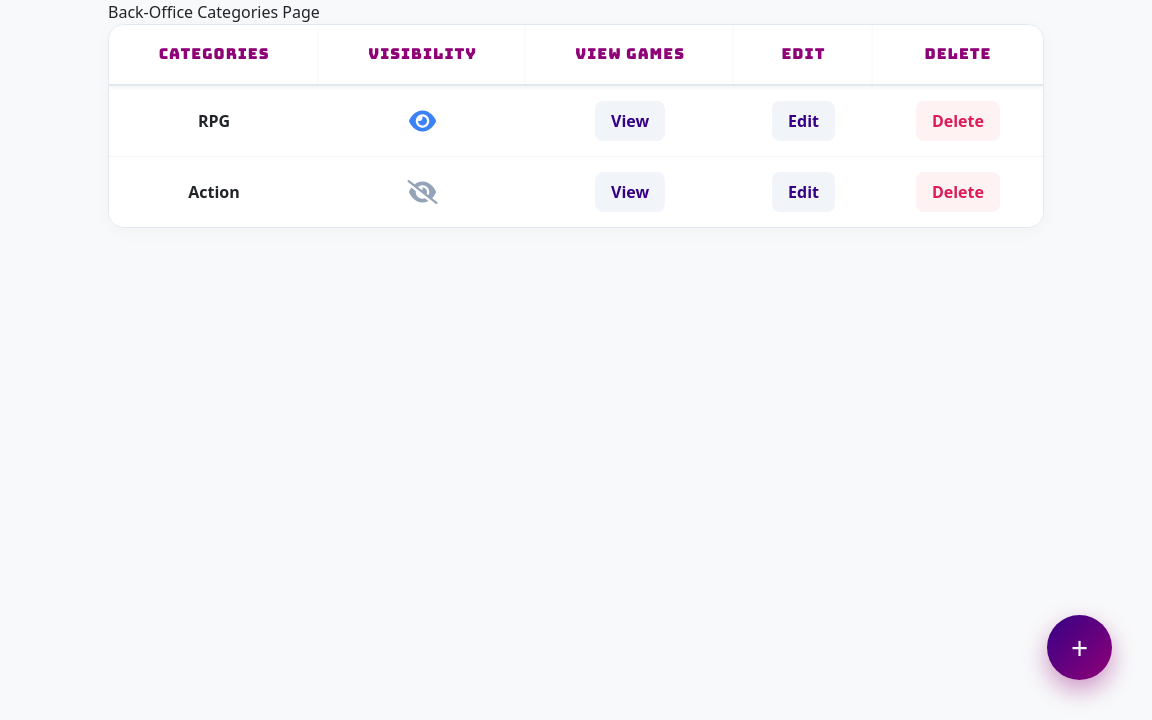
Test case: AdminCategories › adds a category through the modal and reloads
Click the button named "Add category" at (1080,648), box [1047, 615, 1112, 680]
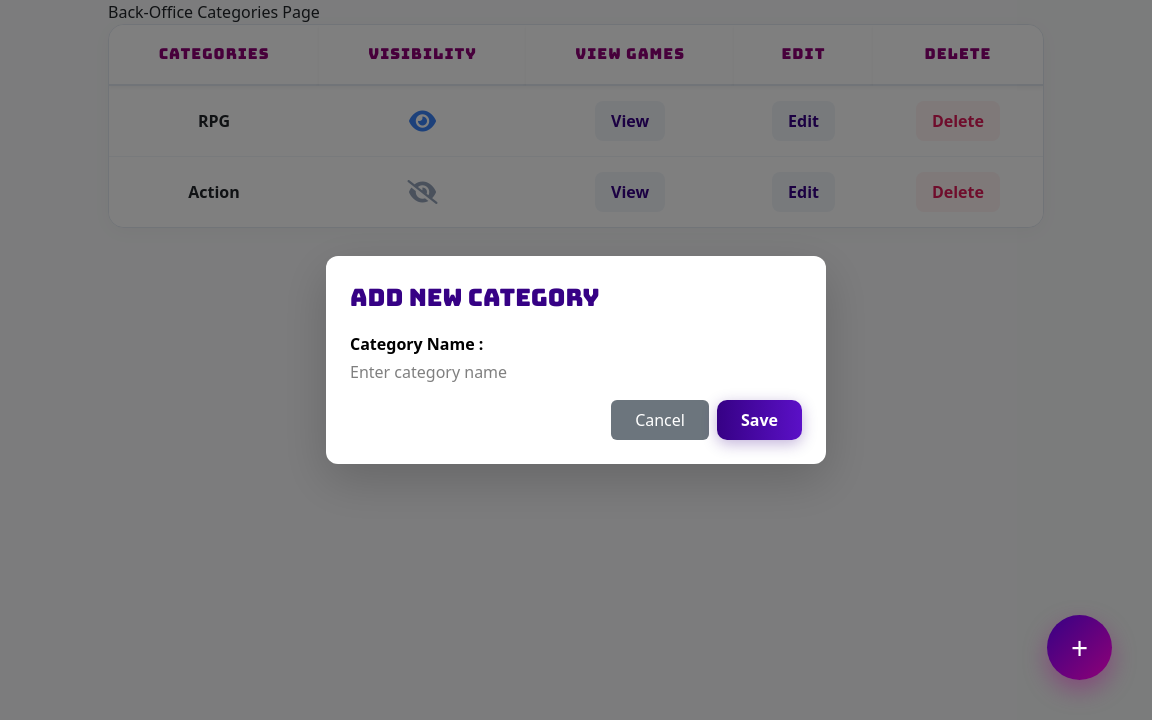
Result: the dialog shows "Add New Category" at [350, 282, 600, 313]
Type "Indie" into the field with id "cat-name" at (466,372), box [350, 360, 581, 384]
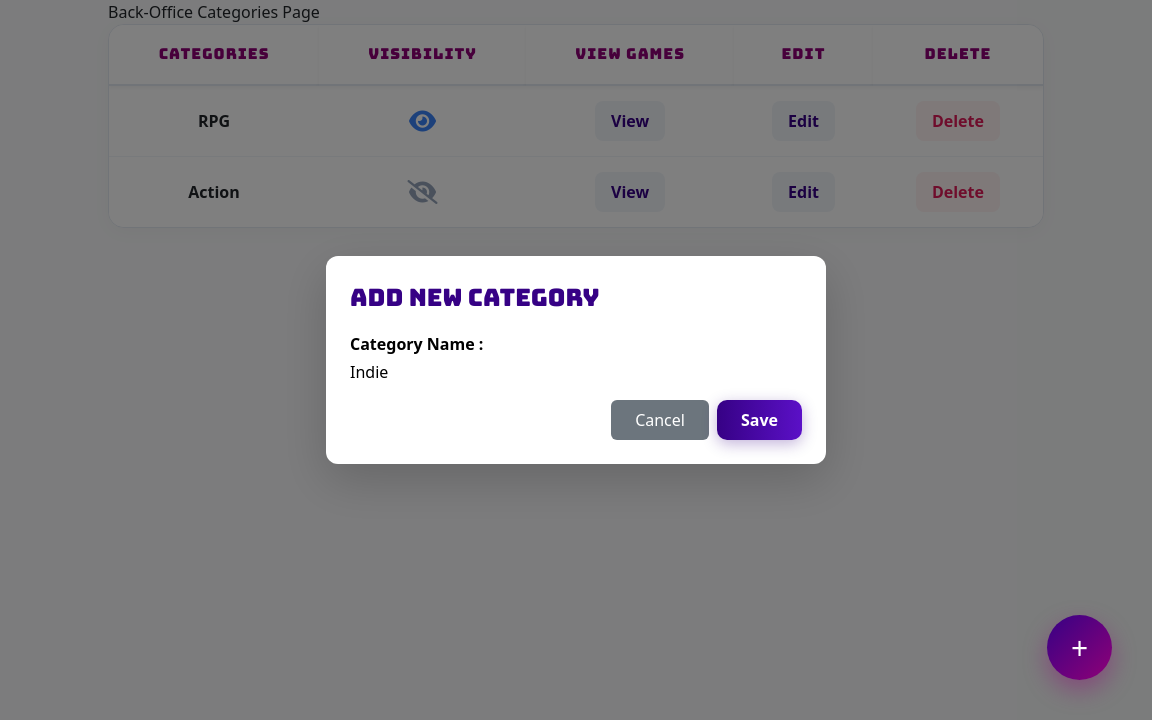
Submit the form, box [326, 256, 826, 464]
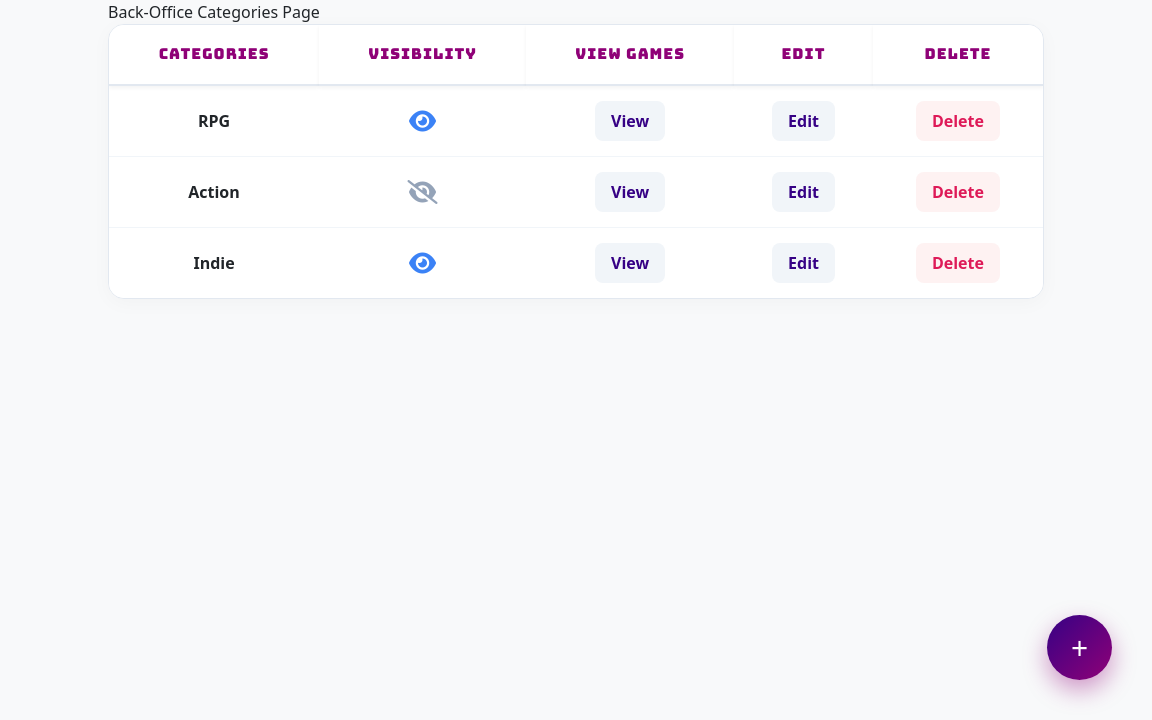
Result: the number of rows with test id "cat-row" is 3 at [109, 86, 1043, 156]; [109, 156, 1043, 228]; [109, 228, 1043, 298]
